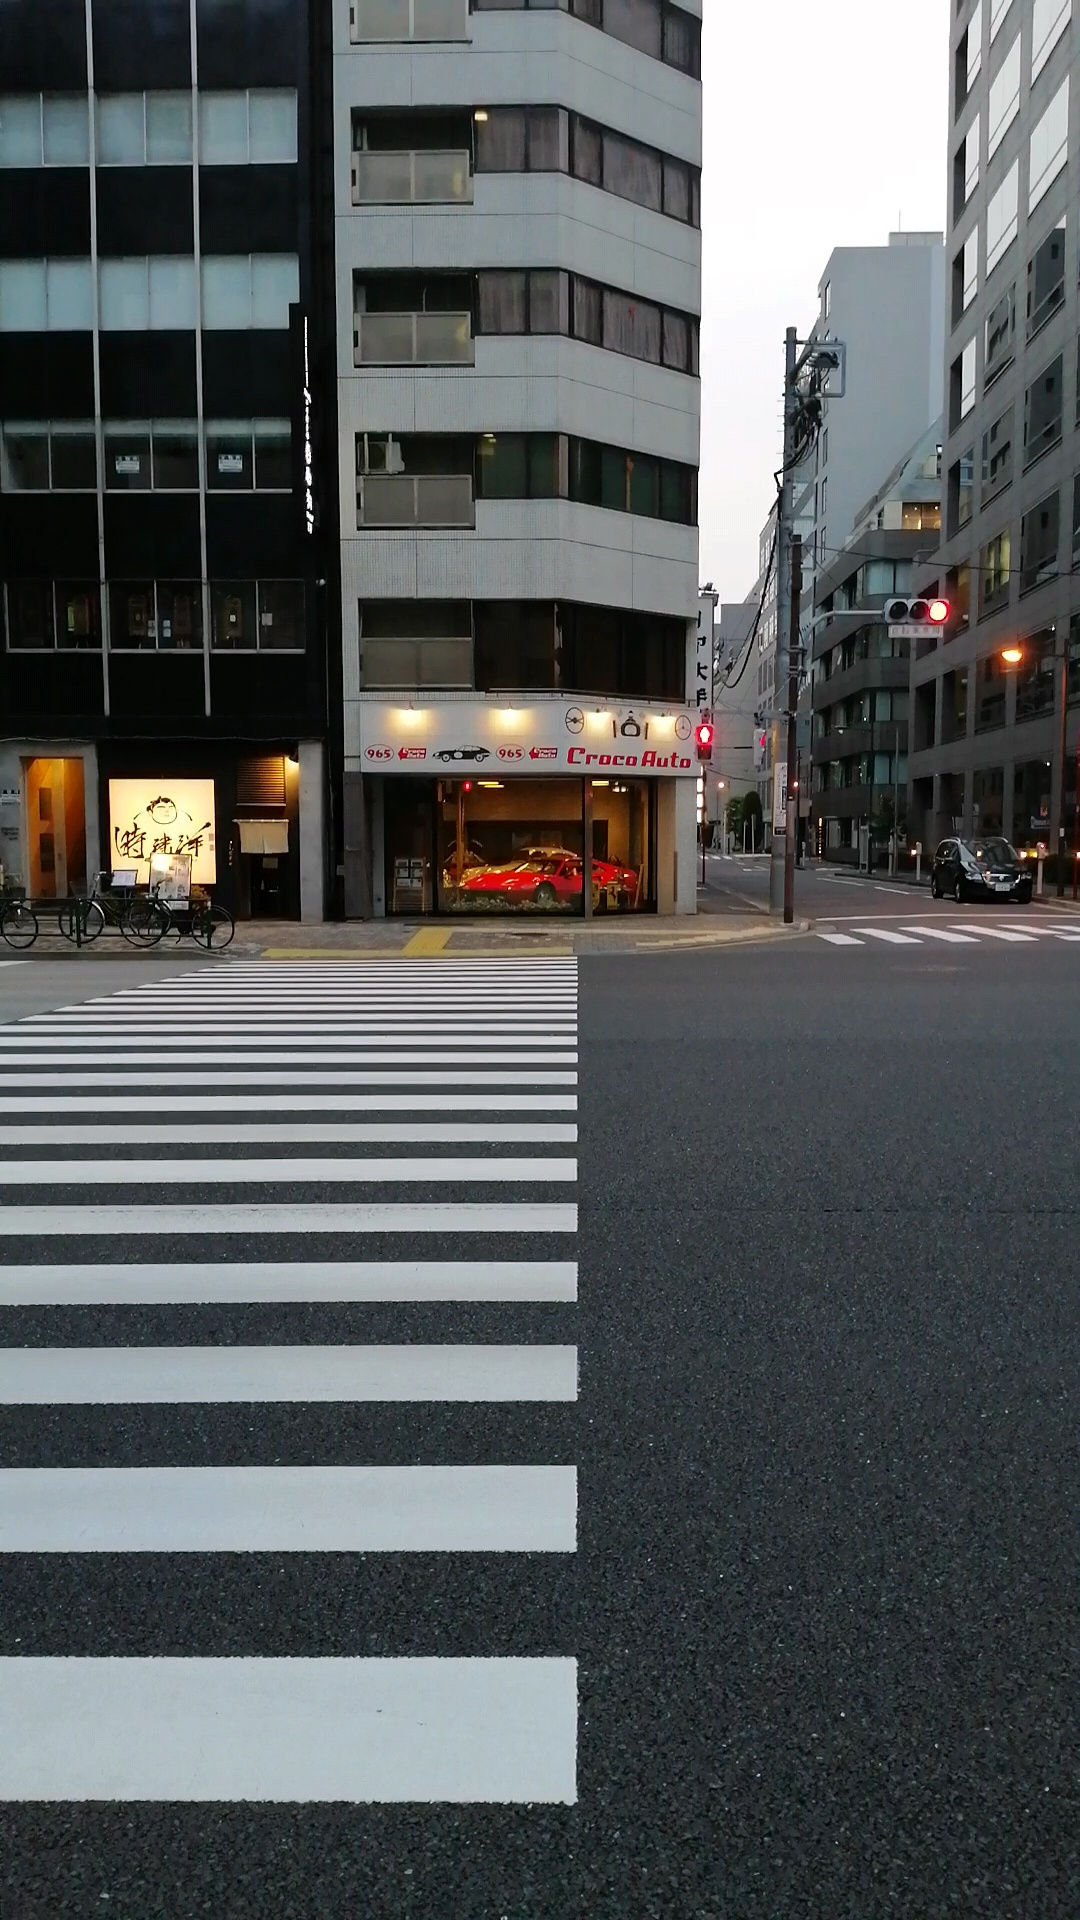red: (694, 723, 713, 764)
